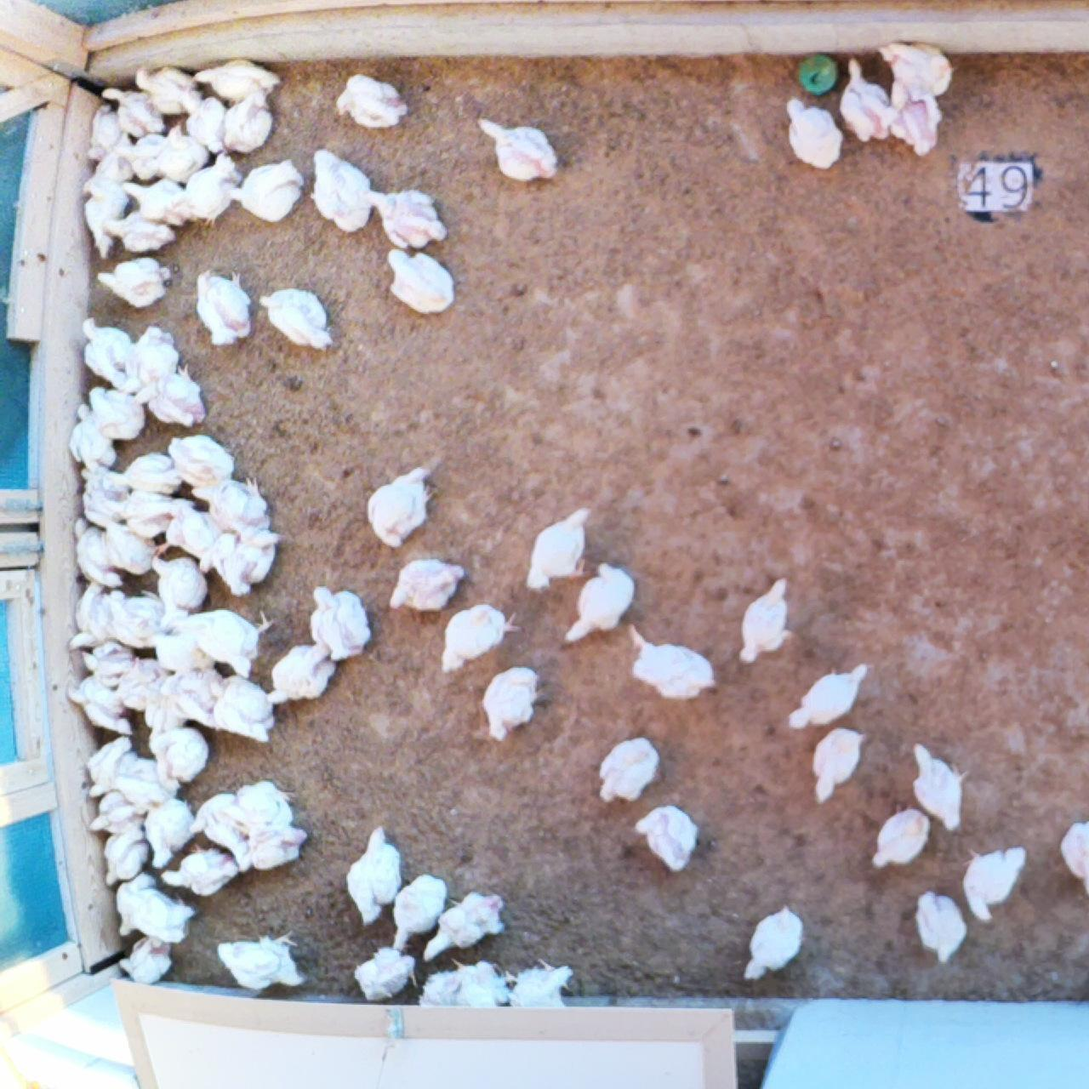chicken: (625, 618, 717, 702), (170, 607, 276, 679), (417, 886, 507, 965), (342, 822, 406, 926), (562, 557, 637, 644), (364, 464, 437, 549), (476, 116, 561, 188), (437, 602, 519, 674), (787, 660, 871, 730), (958, 840, 1028, 923), (361, 184, 450, 249), (524, 506, 592, 591), (151, 500, 226, 576), (224, 154, 305, 224), (206, 672, 281, 746), (215, 929, 303, 992), (198, 527, 277, 597), (169, 150, 241, 226), (382, 247, 460, 317), (191, 476, 277, 539), (883, 77, 947, 161), (910, 741, 969, 832), (310, 148, 372, 234), (305, 584, 374, 661), (735, 575, 794, 664), (192, 268, 259, 346), (781, 97, 847, 176), (186, 792, 251, 871), (739, 902, 803, 982), (259, 285, 334, 352), (875, 35, 955, 97), (478, 664, 541, 742), (810, 725, 871, 805), (118, 320, 180, 398), (392, 871, 449, 955), (632, 804, 702, 872), (837, 54, 889, 145), (499, 952, 579, 1011), (140, 363, 210, 430), (333, 70, 409, 130), (389, 553, 465, 613), (911, 890, 968, 969), (162, 663, 228, 731), (187, 58, 277, 107), (162, 434, 238, 492), (110, 754, 182, 815), (599, 736, 665, 802), (104, 588, 172, 652), (217, 82, 275, 155), (267, 641, 334, 704), (142, 792, 196, 869), (224, 781, 294, 840), (79, 173, 129, 255), (869, 806, 931, 872), (77, 314, 130, 391), (104, 449, 181, 502), (95, 255, 170, 309), (63, 676, 132, 734), (160, 845, 238, 896), (78, 130, 137, 197), (110, 487, 189, 537), (149, 557, 205, 626), (147, 723, 210, 783), (70, 464, 127, 530), (70, 518, 124, 587), (101, 208, 177, 257), (121, 174, 190, 227), (355, 945, 418, 1002), (66, 402, 117, 472), (133, 887, 199, 941), (85, 382, 146, 440), (134, 66, 202, 118), (239, 824, 308, 875), (101, 84, 167, 137), (80, 733, 133, 799), (147, 625, 214, 675), (179, 89, 227, 158), (69, 580, 117, 649), (101, 825, 154, 887), (110, 868, 155, 939), (155, 125, 207, 186), (102, 519, 160, 573), (81, 102, 134, 161), (461, 959, 520, 1012), (112, 654, 165, 709), (116, 933, 172, 985), (414, 957, 466, 1010), (143, 685, 188, 746), (88, 790, 144, 837), (82, 638, 134, 688), (115, 131, 164, 184), (1058, 818, 1089, 899)
